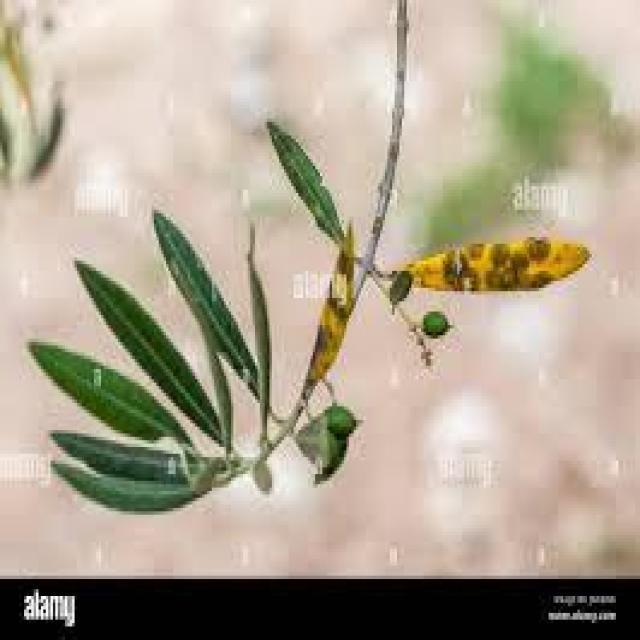OlivePeacockSpot: (400, 237, 590, 288), (304, 258, 358, 397)
